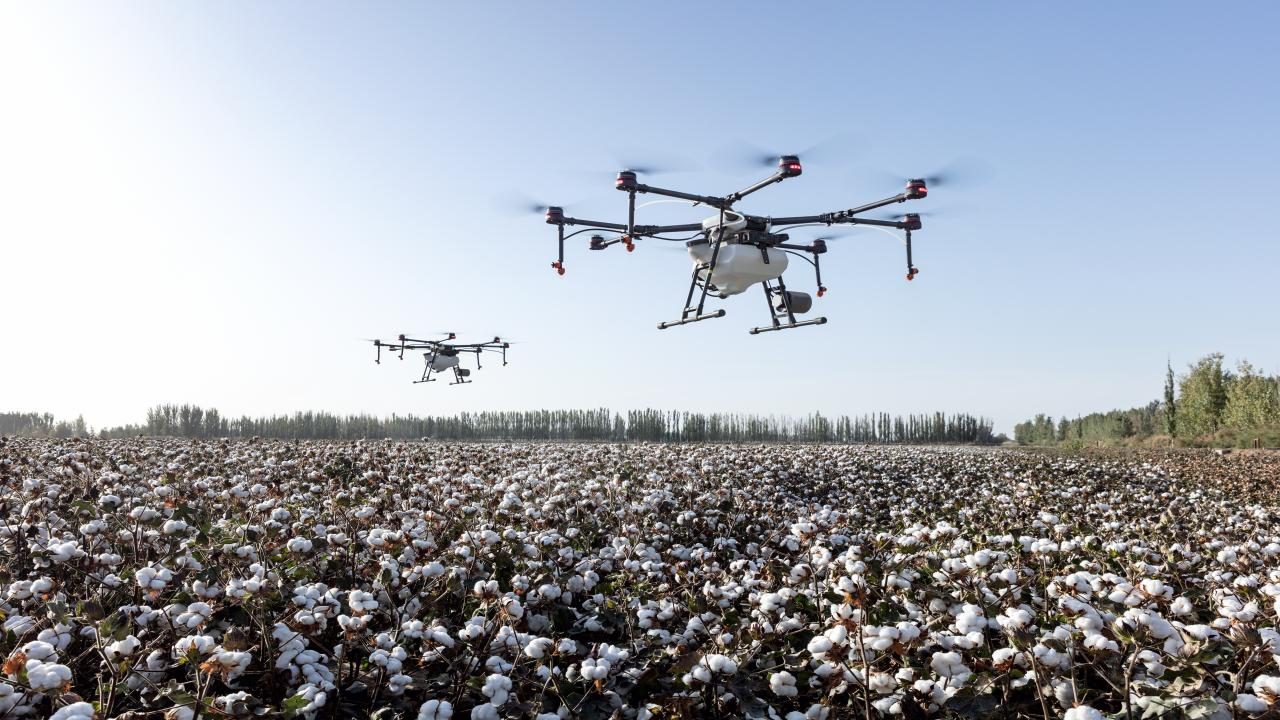Drone: (499, 139, 999, 339), (348, 324, 535, 392)
